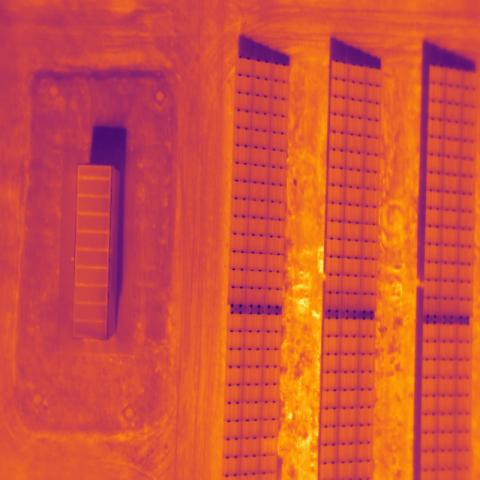fault: (260, 437, 278, 456)
